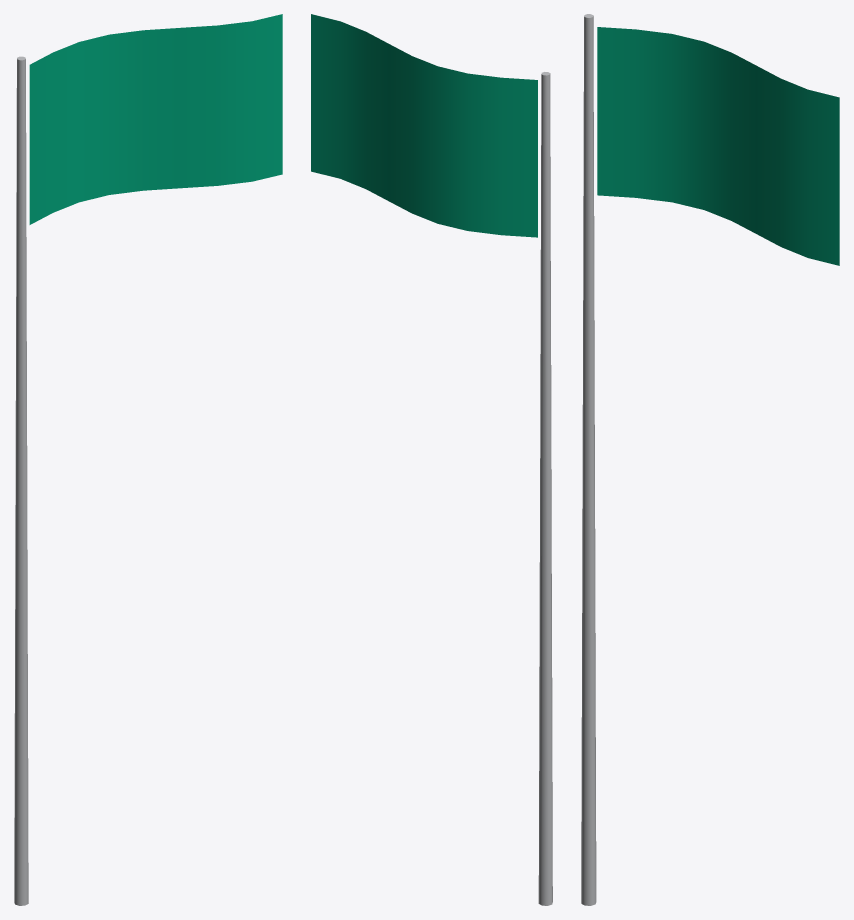
The model's file is SM_FlagPole.fbx.
3 views of the same model, side by side, from view 1: azimuth 30°, elevation 25°; view 2: azimuth 150°, elevation 25°; view 3: azimuth 330°, elevation 25° (orthographic). The views are drawn at different scales.
Parts seen in each view (by area): view 1: SM_FlagPole; view 2: SM_FlagPole; view 3: SM_FlagPole.
Part boxes in pixels (left/top/right/bottom): SM_FlagPole: left=14, top=14, right=282, bottom=905; SM_FlagPole: left=311, top=14, right=552, bottom=905; SM_FlagPole: left=581, top=14, right=839, bottom=905.
Size of the model in its own units: 318 by 1000 by 47.83.
